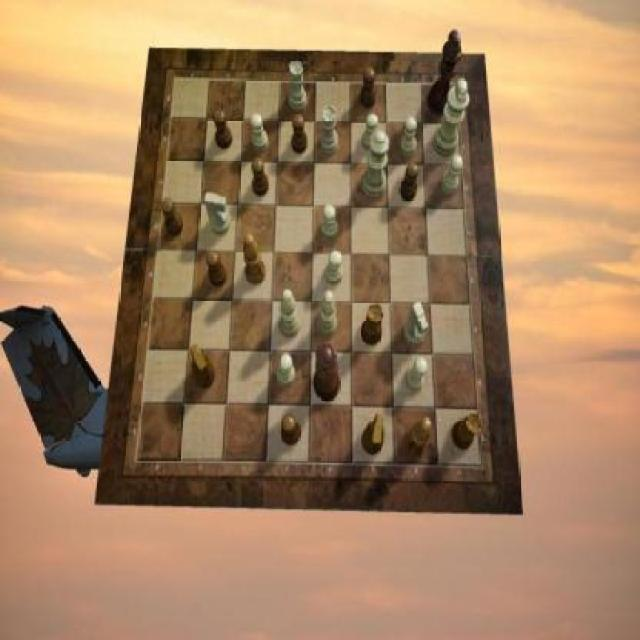bishop: (243, 234, 266, 286), (404, 417, 432, 458)
black-bishop: (428, 31, 463, 116)
black-king: (191, 343, 217, 389), (362, 414, 384, 455)
black-knight: (161, 198, 184, 237), (400, 163, 420, 201), (214, 111, 233, 151), (208, 251, 228, 287), (251, 158, 268, 197), (282, 414, 302, 446), (292, 114, 308, 154), (360, 68, 376, 108)
black-pawn: (312, 343, 340, 402)
black-queen: (452, 412, 482, 450), (362, 303, 384, 345)
black-rook: (278, 291, 301, 338), (317, 291, 337, 337)
white-bishop: (434, 78, 471, 157)
white-king: (204, 194, 230, 236), (405, 302, 429, 346)
white-knight: (441, 155, 464, 194), (404, 357, 428, 391), (399, 117, 416, 158), (277, 354, 296, 388), (251, 114, 268, 152), (362, 114, 379, 151), (325, 251, 342, 285), (322, 204, 338, 240)
white-pawn: (363, 131, 391, 198)
white-queen: (288, 60, 307, 111), (320, 106, 338, 156)
